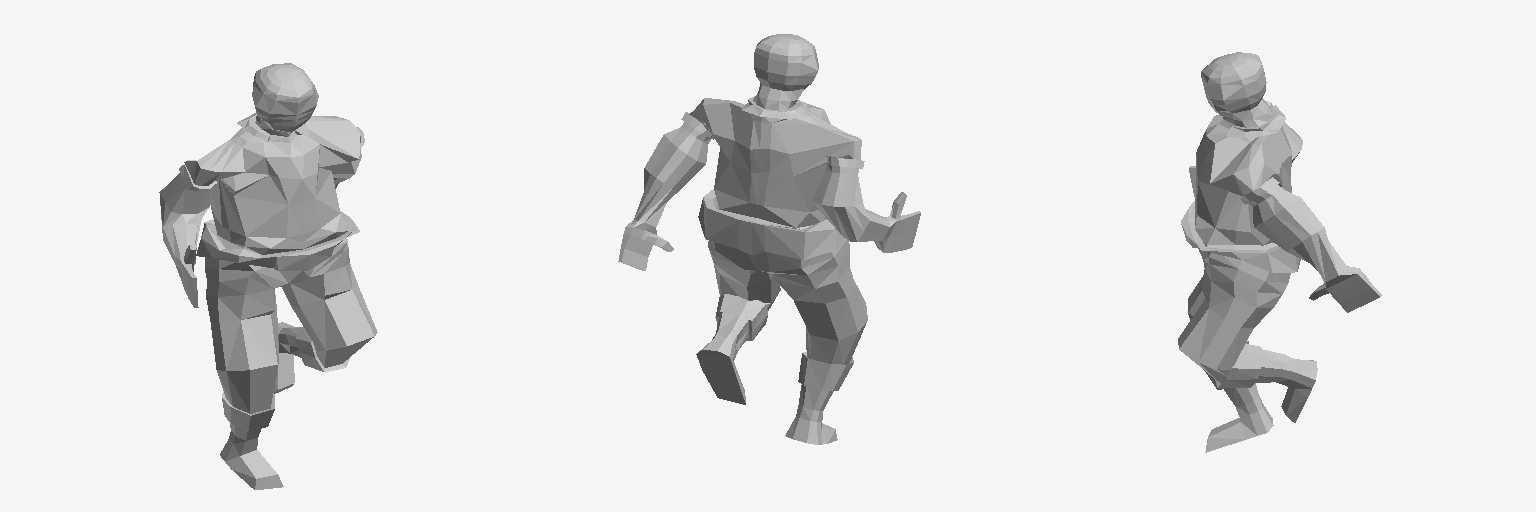
The model's file is run_3.obj.
The picture shows the model from 3 angles: view 1: azimuth 30°, elevation 25°; view 2: azimuth 150°, elevation 25°; view 3: azimuth 270°, elevation 25°; orthographic projection.
Visible parts, largest first — view 1: Default_Body_Cube; view 2: Default_Body_Cube; view 3: Default_Body_Cube.
Part boxes in pixels (left/top/right/bottom): Default_Body_Cube: left=159, top=63, right=377, bottom=489; Default_Body_Cube: left=618, top=34, right=920, bottom=444; Default_Body_Cube: left=1178, top=52, right=1381, bottom=452.
Bounding box in the file's own units: 4.38 × 7.77 × 3.56.